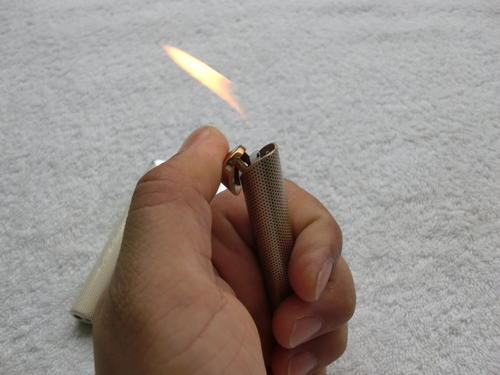fire: (163, 39, 274, 140)
